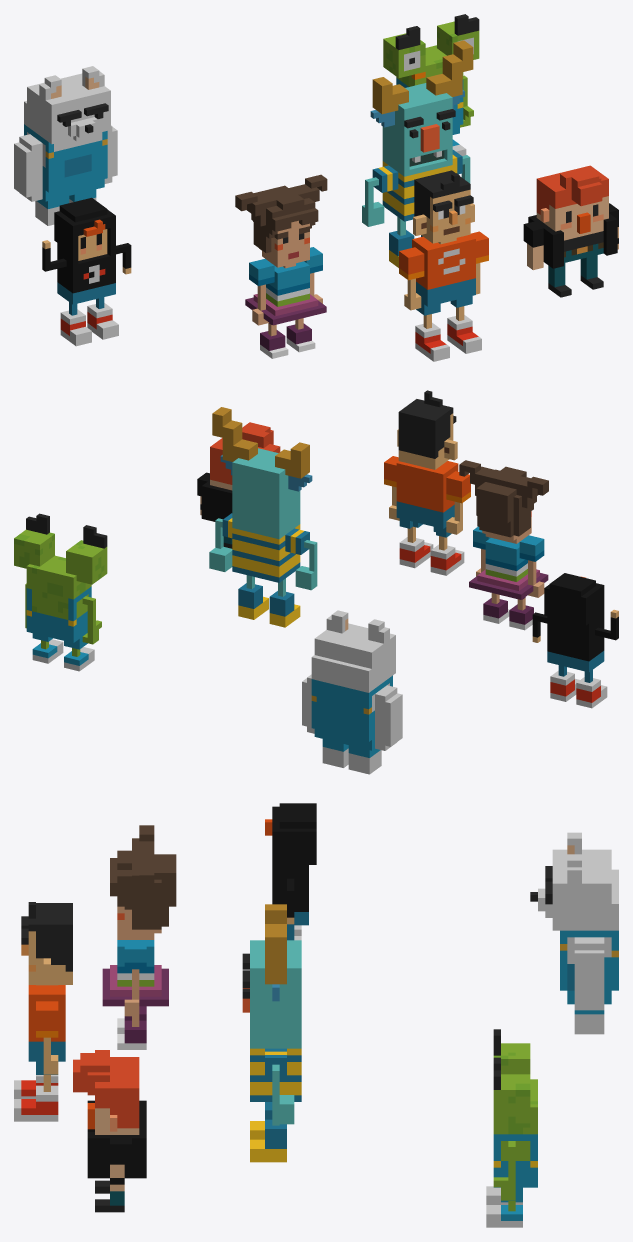
The model's file is voxel.glb.
3 renders of one model, top to bottom at view 1: azimuth 30°, elevation 25°; view 2: azimuth 150°, elevation 25°; view 3: azimuth 270°, elevation 25°, orthographic. The views are drawn at different scales.
Parts seen in each view (by area): view 1: Object_2; view 2: Object_2; view 3: Object_2.
Part boxes in pixels (left/top/right/bottom): Object_2: left=14, top=14, right=618, bottom=361; Object_2: left=14, top=390, right=618, bottom=774; Object_2: left=14, top=803, right=618, bottom=1227.
Size of the model in its own units: 9.7 by 3.6 by 8.2.
1 material, 1 textured.
